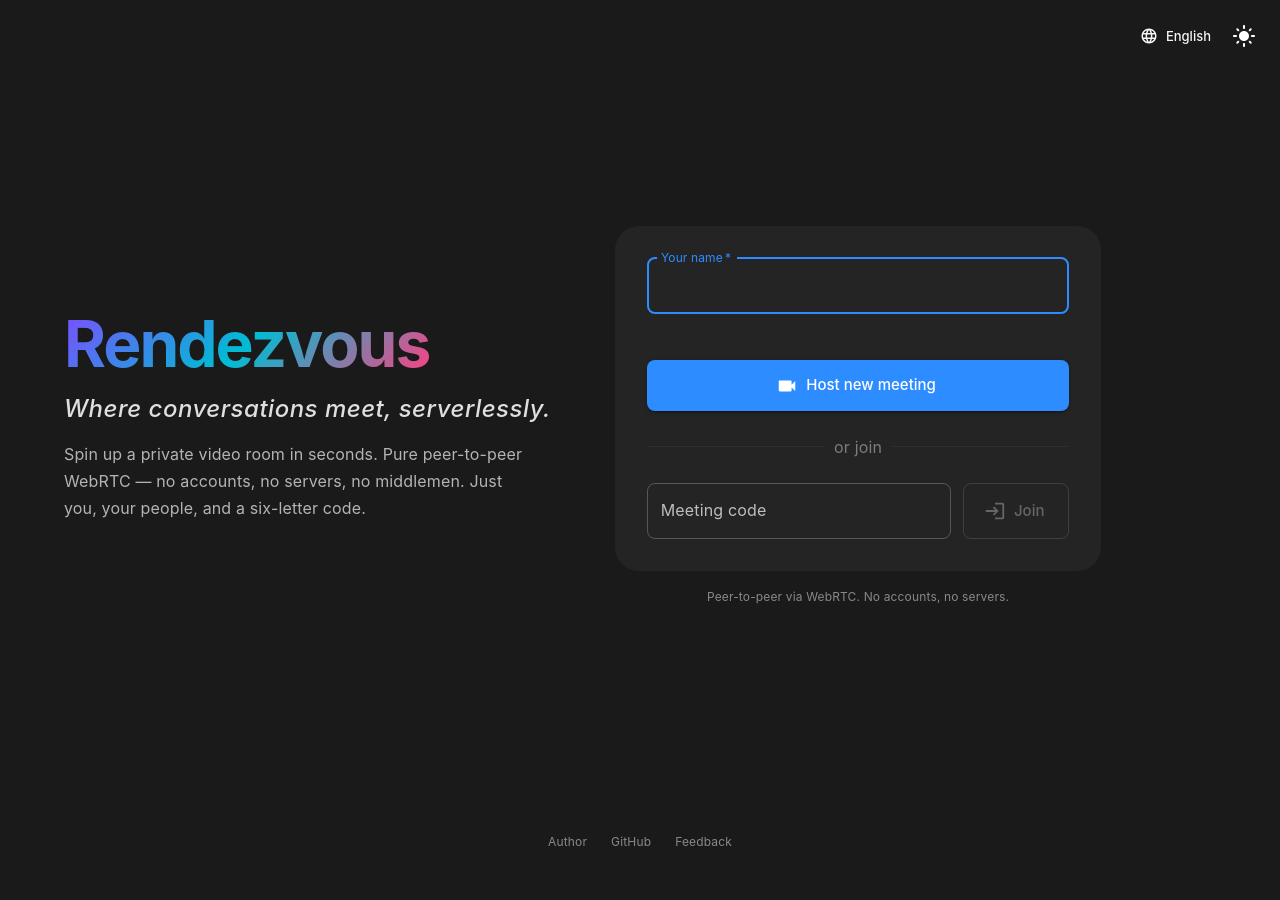
it: HomePage › surfaces the name error when joining with a valid code but no name
Step 1. Type "abcdef" into the field labelled "Meeting code" → coordinates (799, 511), box [647, 483, 951, 539]
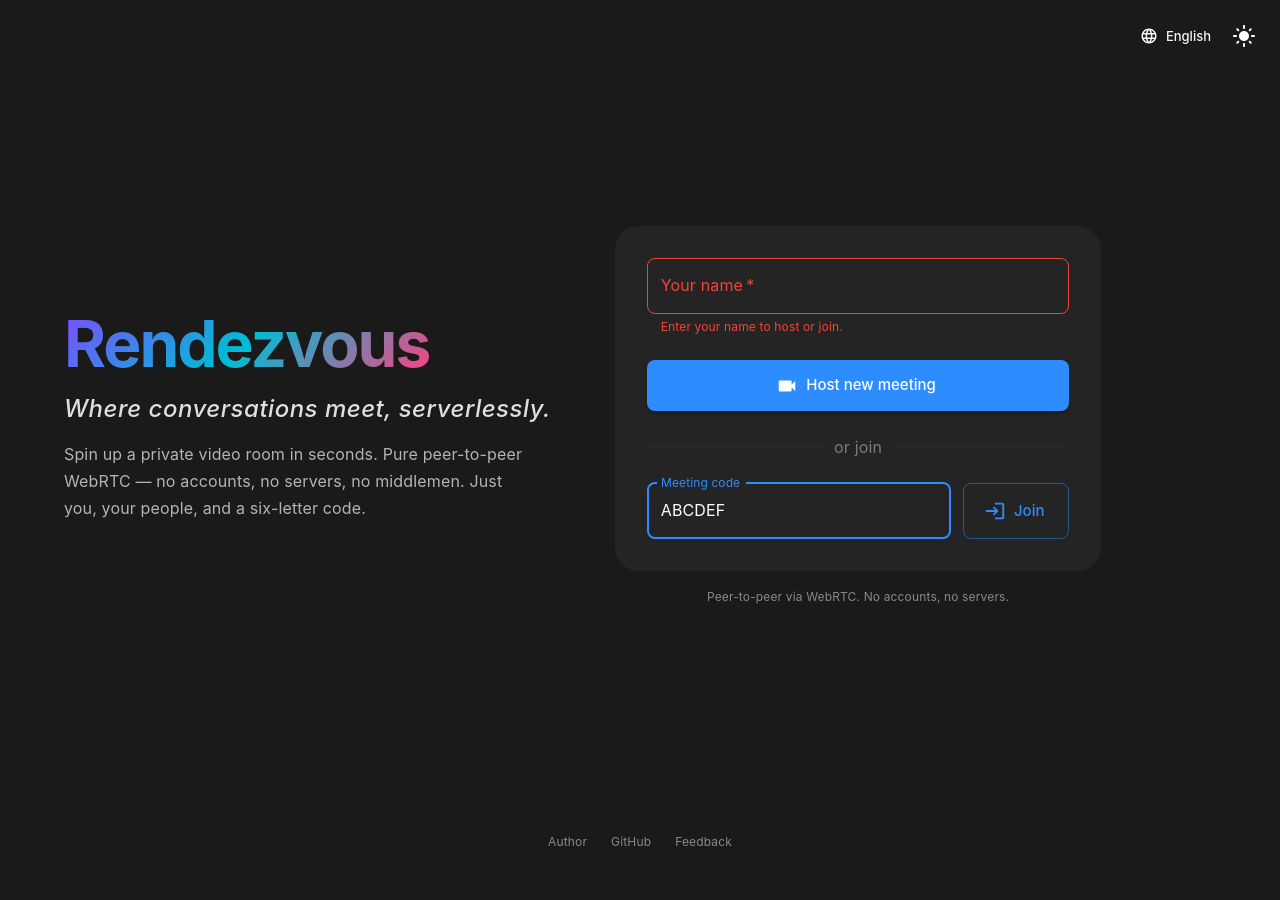
Step 2. Click the button "Join" → coordinates (1016, 511), box [963, 483, 1069, 539]
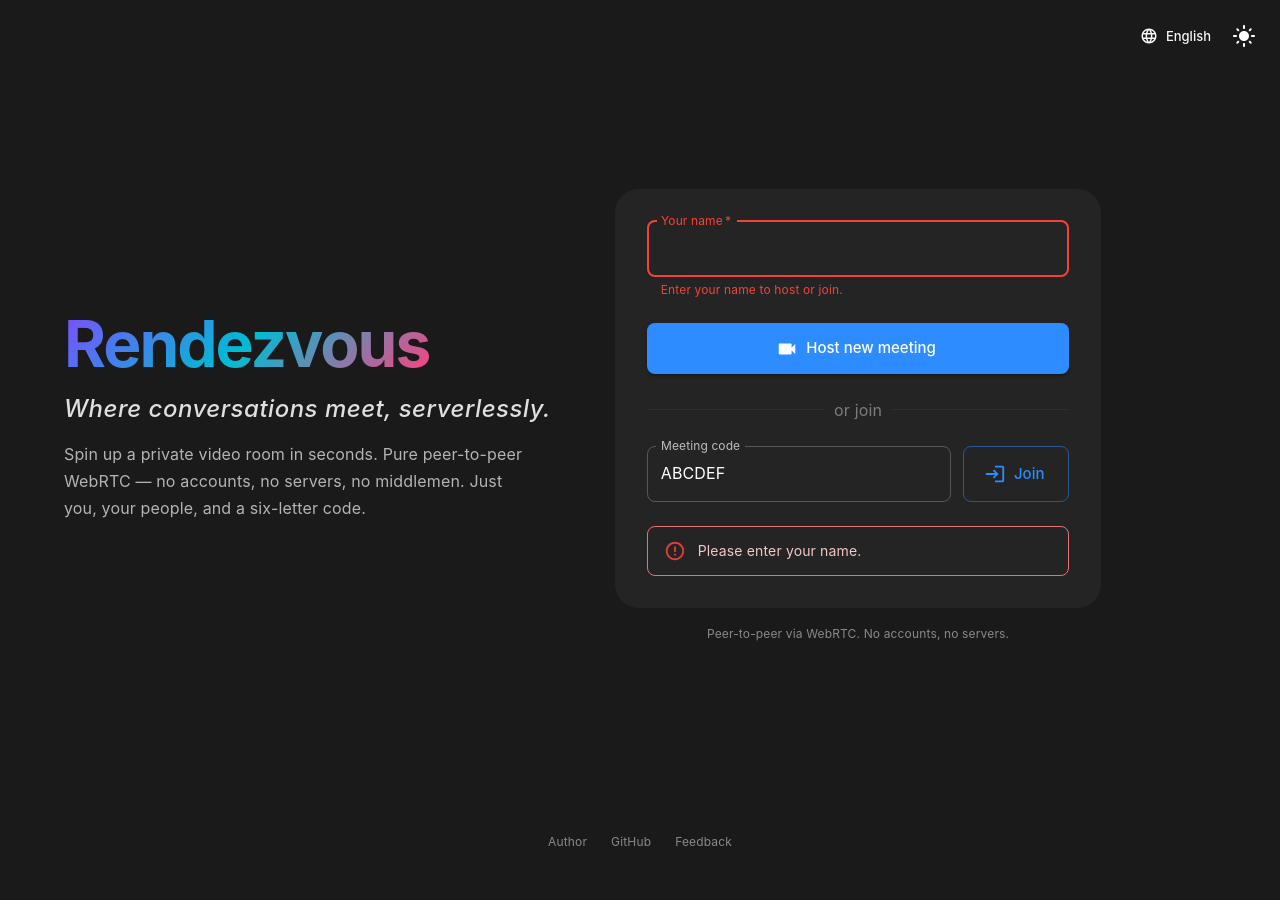
Now the text "Please enter your name." is shown, box [698, 542, 862, 559]
